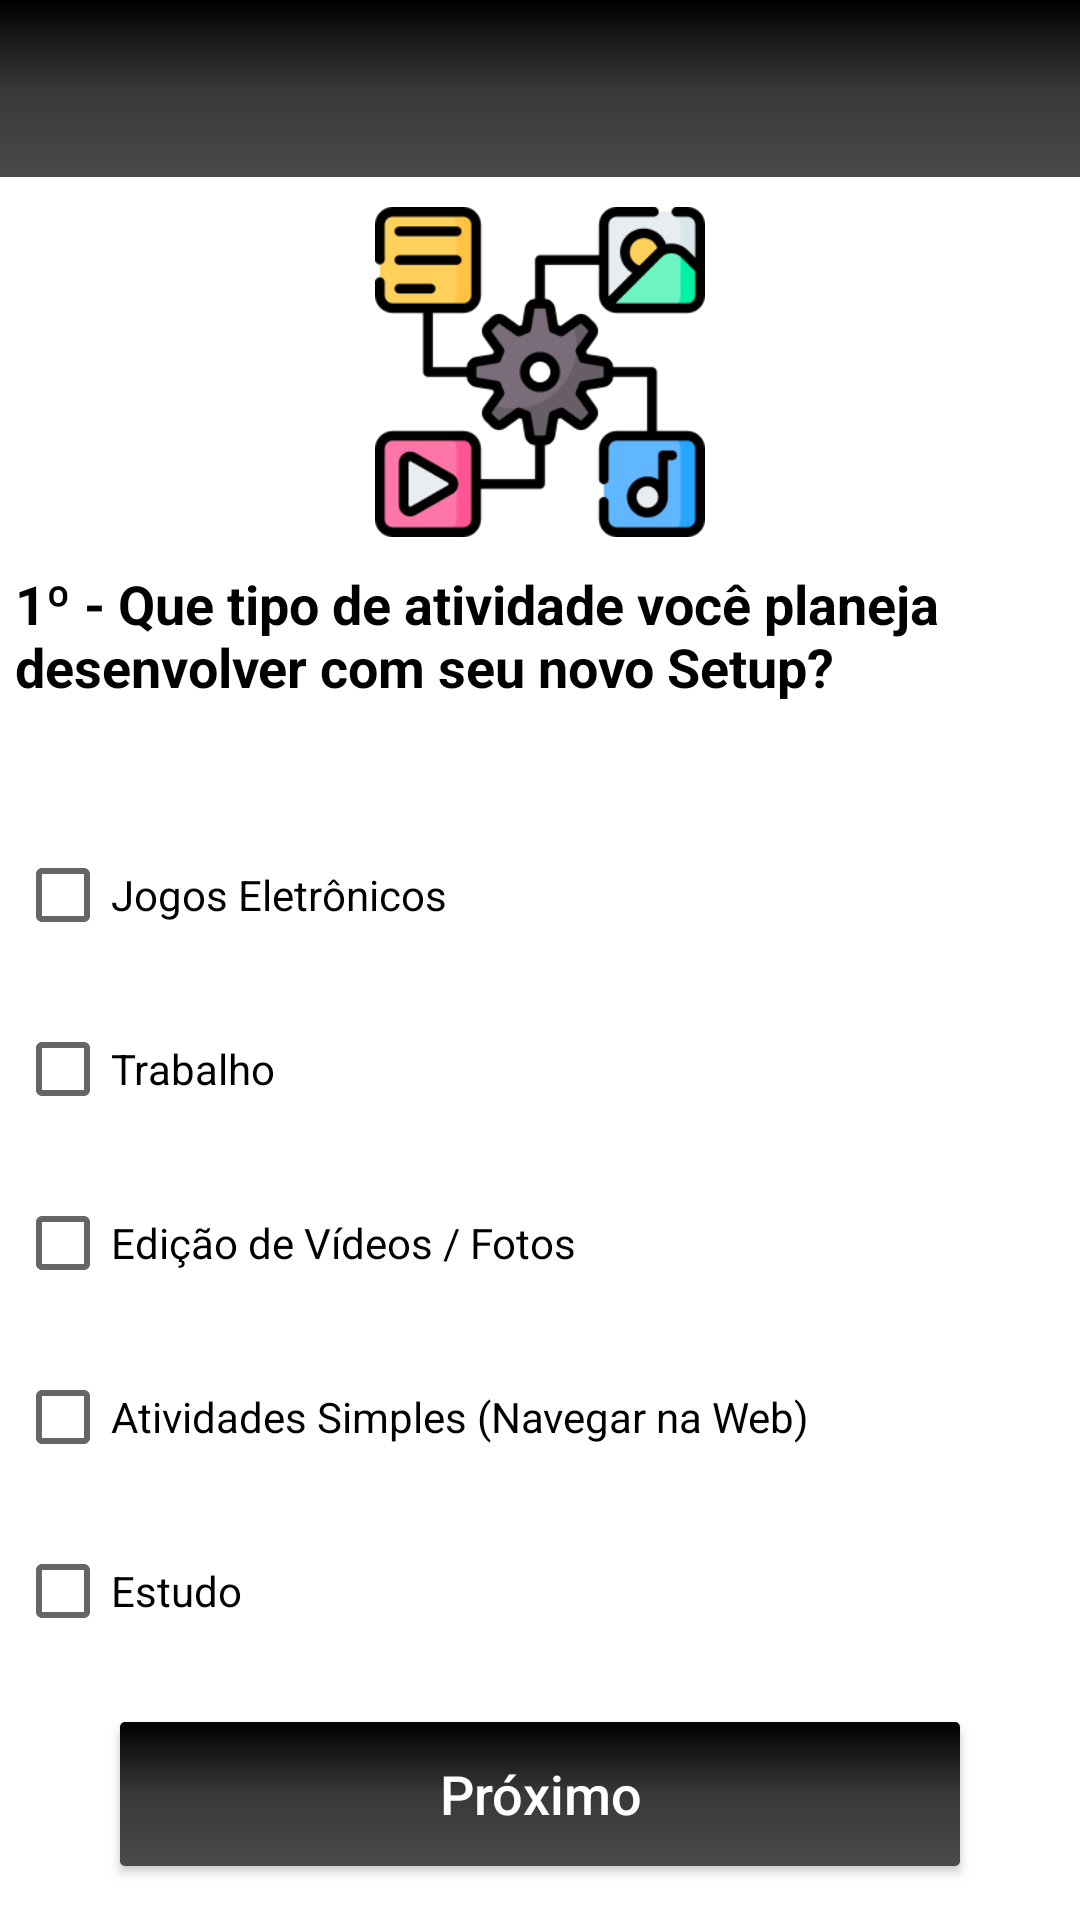

Screen size 1080px x 1920px. Icon name, then its box in pixels as (x1,y1,x2,y2):
ativos: (375,207,705,537)
